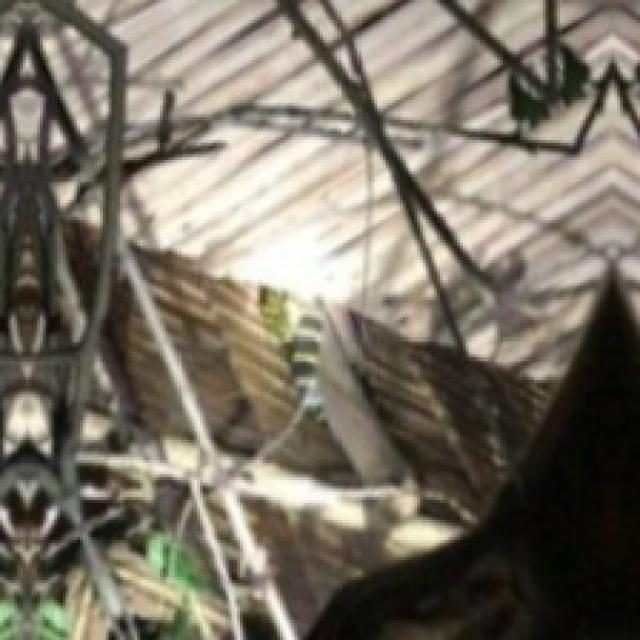mangrove cat snake: (0, 0, 134, 637)
